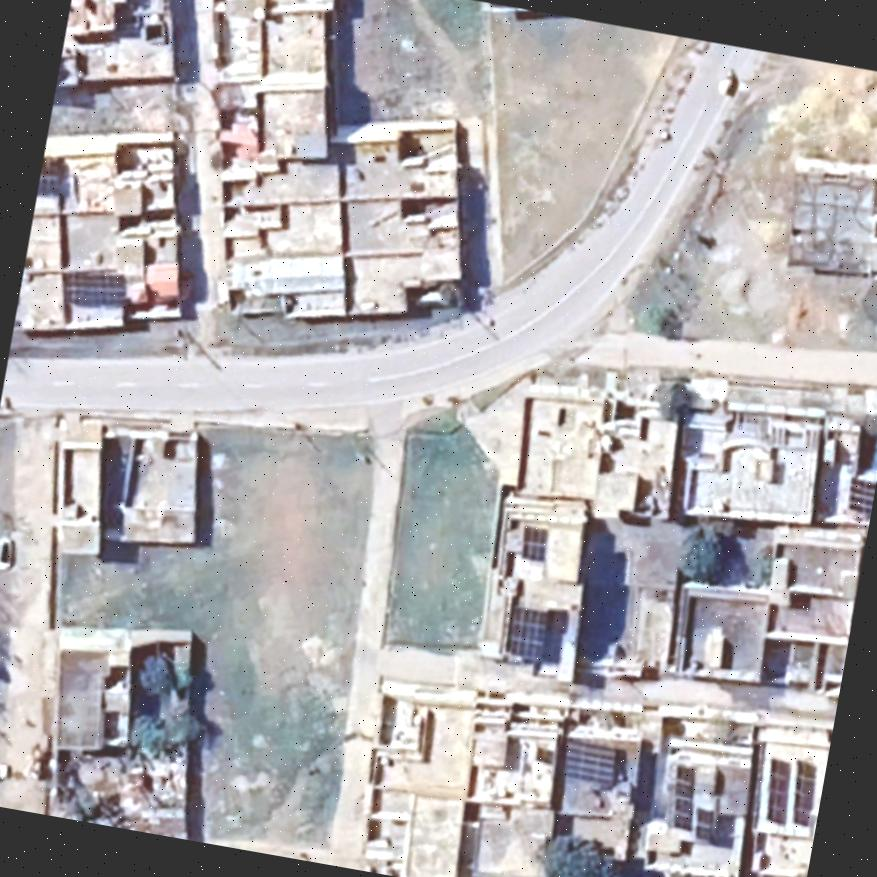Solarpanel: (52, 256, 138, 320), (555, 730, 629, 795), (498, 598, 558, 666), (756, 752, 802, 830), (661, 758, 706, 836), (784, 755, 826, 831), (514, 519, 555, 566), (36, 152, 69, 202), (842, 472, 877, 518)
